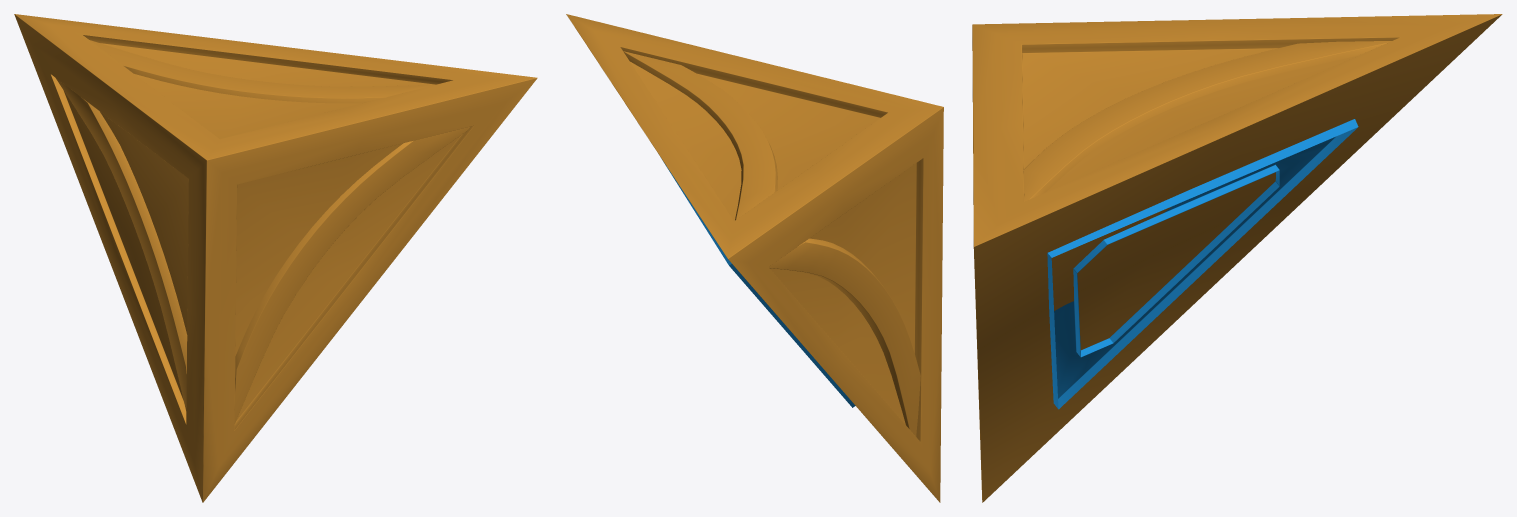
Rendered from esquina_6.obj.
3 renders of one model, left to right at view 1: azimuth 30°, elevation 25°; view 2: azimuth 150°, elevation 25°; view 3: azimuth 270°, elevation 25°, orthographic. The views are drawn at different scales.
Visible parts, largest first — view 1: esquina_6; view 2: esquina_6; view 3: esquina_6.
Part boxes in pixels (bbox=[...]): esquina_6: bbox=[14, 14, 537, 502]; esquina_6: bbox=[566, 14, 943, 502]; esquina_6: bbox=[972, 14, 1502, 502].
Size of the model in its own units: 5.19 by 5.22 by 5.14.
